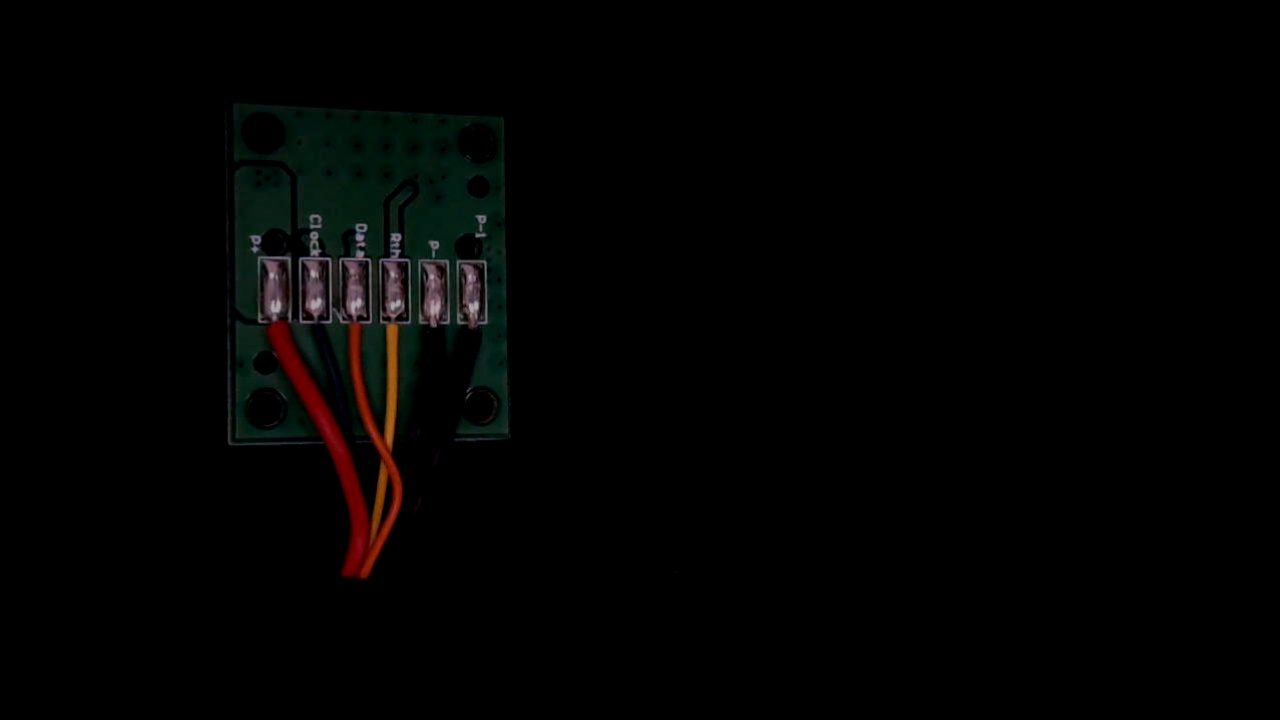Black: (417, 303, 451, 376)
Black1: (457, 305, 490, 372)
Green: (300, 297, 334, 367)
Orange: (339, 302, 371, 374)
Red: (258, 302, 293, 372)
Yellow: (379, 304, 413, 378)
